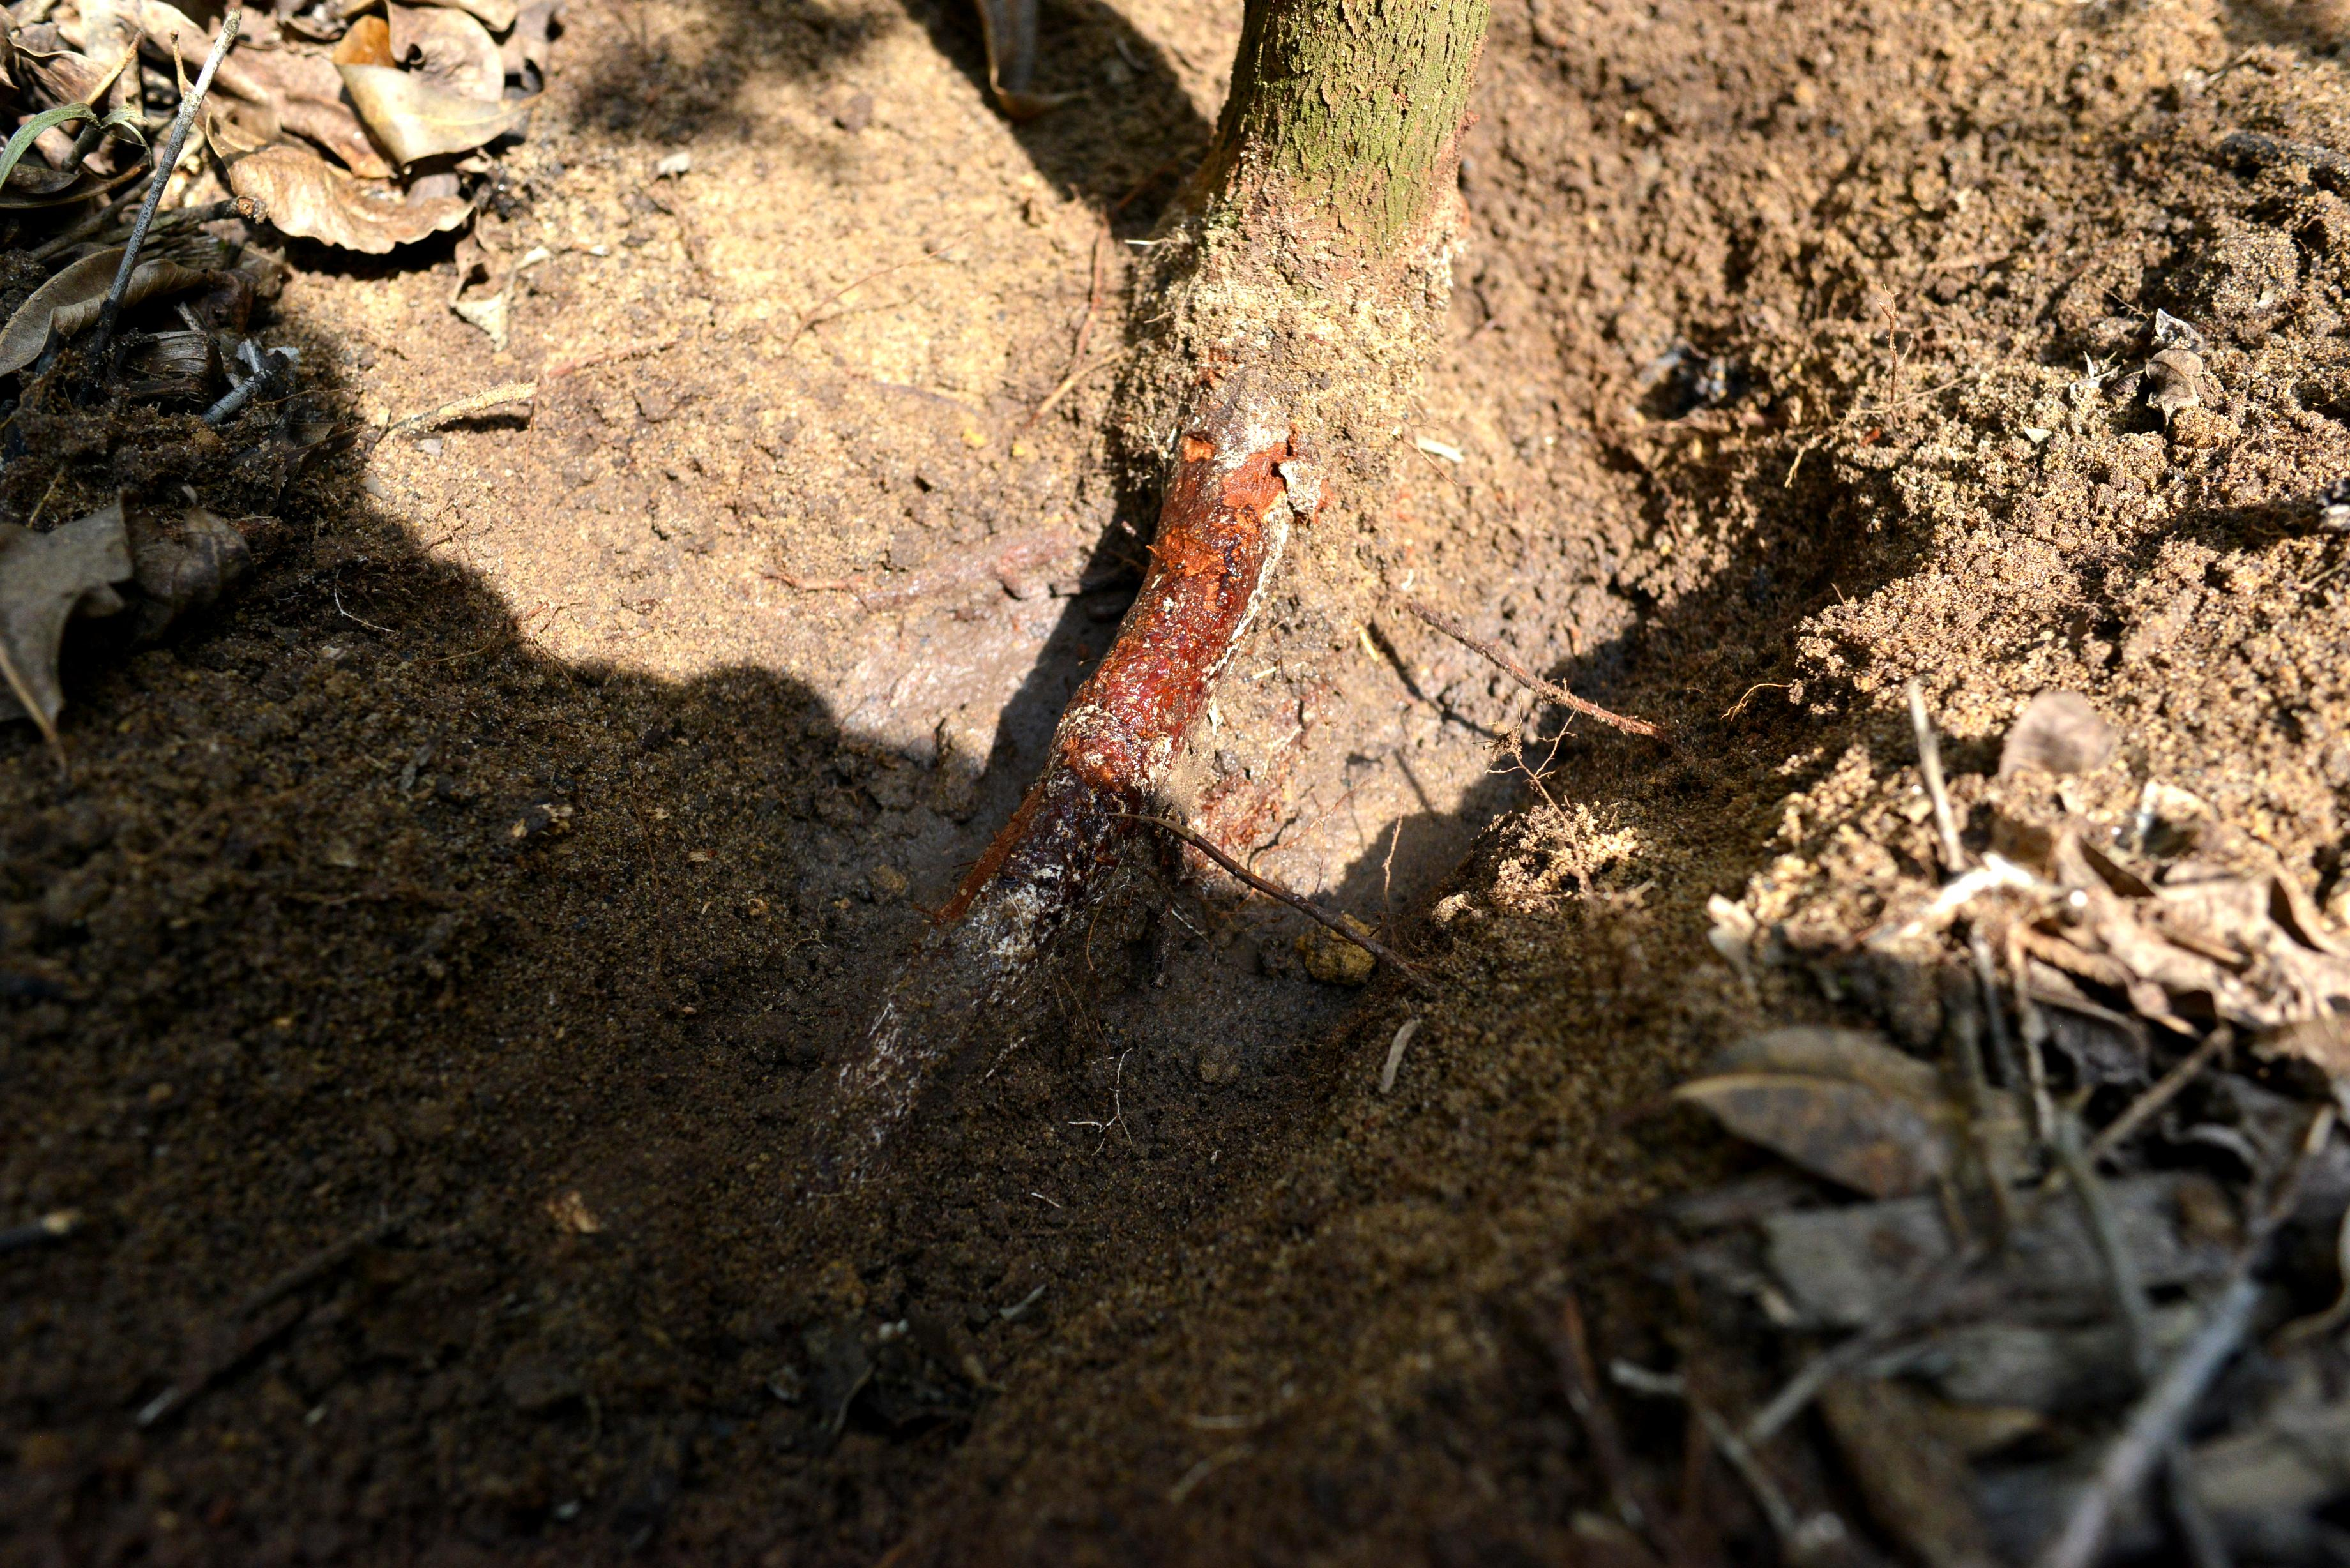Red Root Rot - Secretion: (1001, 399, 1328, 836)
